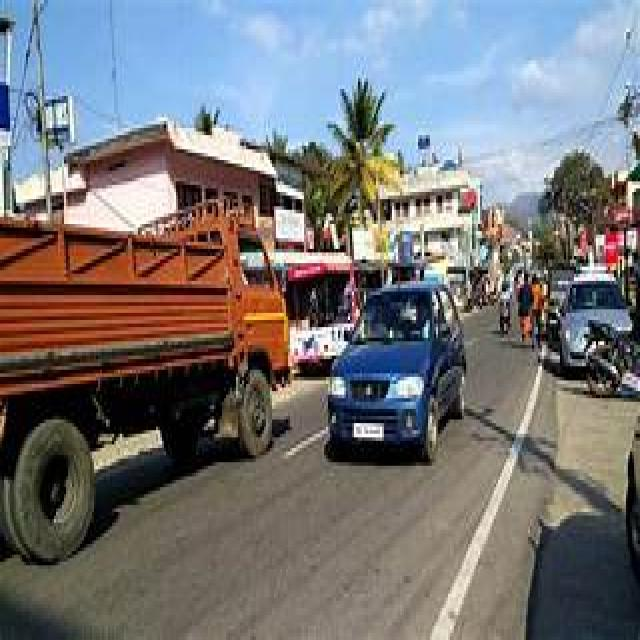Car: (329, 284, 466, 459), (560, 282, 632, 368)
Truck: (0, 204, 289, 561)
